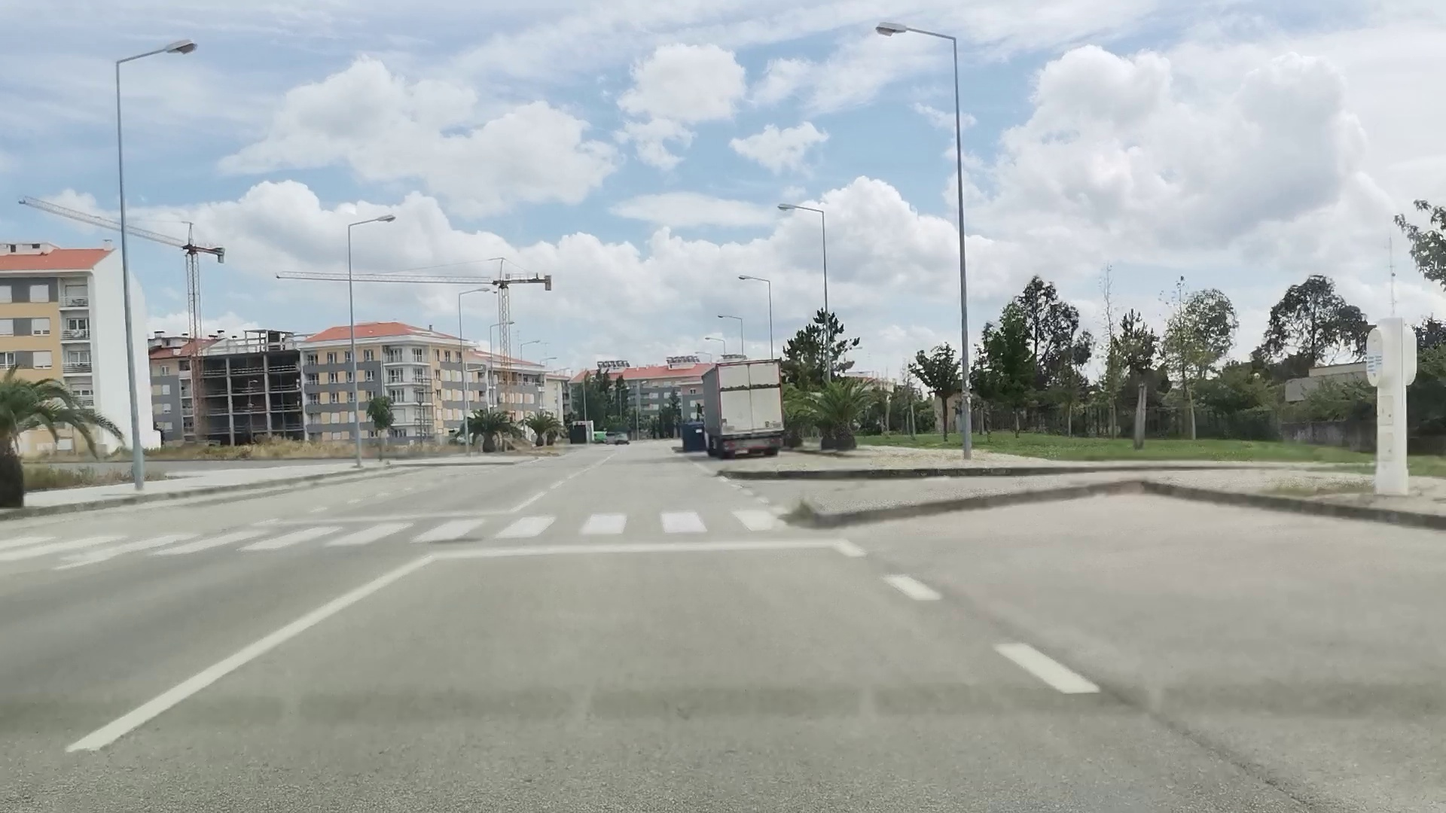Stairs: (0, 506, 791, 563)
